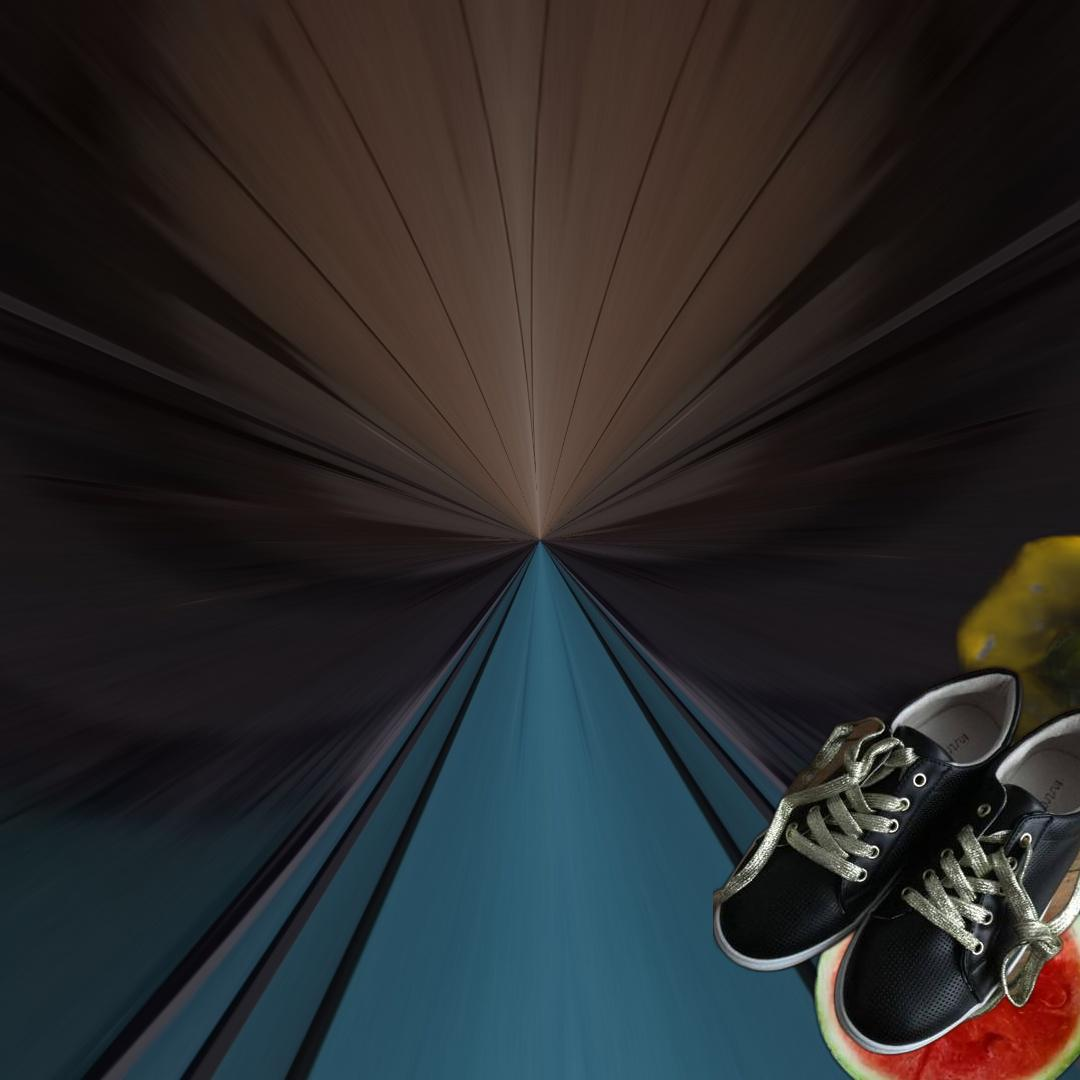biological: (803, 472, 1080, 1080)
shoes: (713, 661, 1080, 1060)
